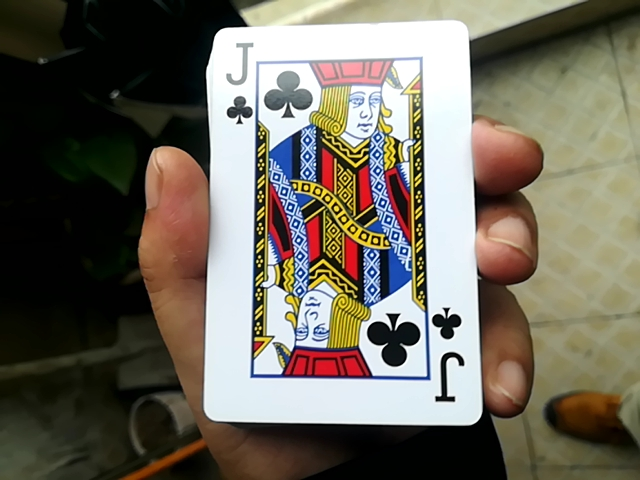mh j: (190, 11, 476, 420)
